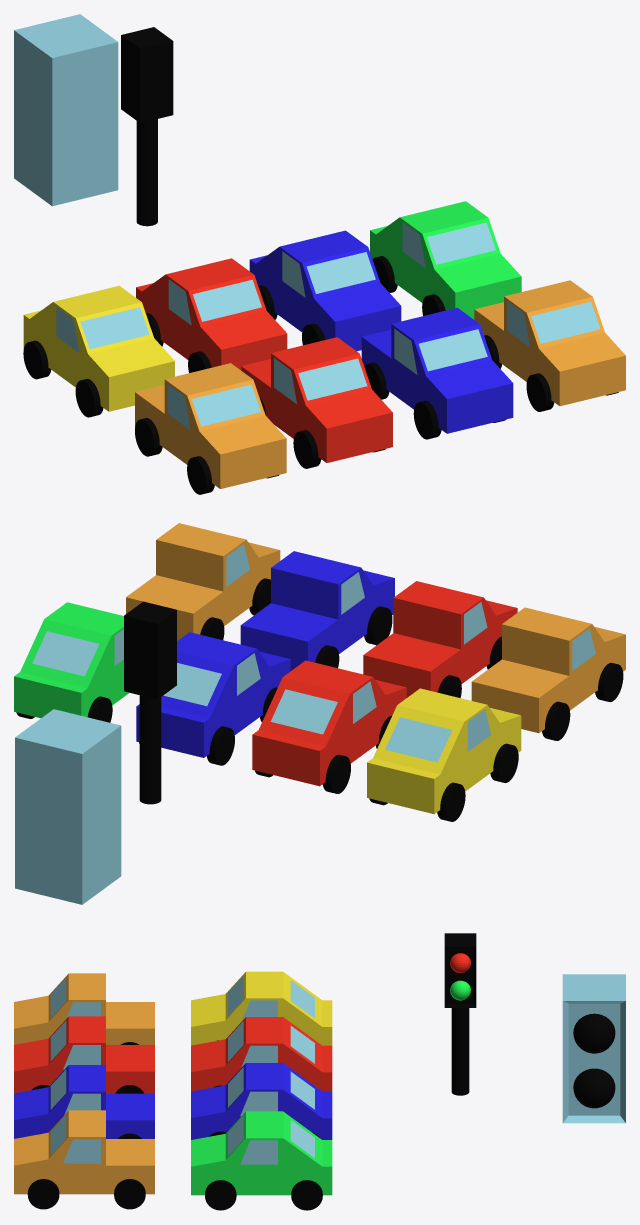
Rendered from cars_ speaker_ traffic light group maodels.glb.
3 renders of one model, top to bottom at view 1: azimuth 30°, elevation 25°; view 2: azimuth 150°, elevation 25°; view 3: azimuth 270°, elevation 25°, orthographic. The views are drawn at different scales.
Parts seen in each view (by area): view 1: Cube.009, Cube.003, Cube.001, Cube.007, Cube.004, Cube.002, Cube.008, Cube.005, Cube.006, Cube; view 2: Cube.009, Cube.007, Cube.006, Cube.003, Cube.001, Cube.002, Cube.005, Cube.004, Cube.008, Cube; view 3: Cube.008, Cube.004, Cube.009, Cube.005, Cube.002, Cube.006, Cube.007, Cube.001, Cube.003, Cube.
Part boxes in pixels (left/top/right/bottom): Cube.009: left=14, top=14, right=118, bottom=206; Cube.003: left=135, top=363, right=286, bottom=494; Cube.001: left=361, top=307, right=513, bottom=439; Cube.007: left=23, top=285, right=174, bottom=417; Cube.004: left=474, top=280, right=625, bottom=411; Cube.002: left=241, top=337, right=392, bottom=468; Cube.008: left=370, top=201, right=521, bottom=319; Cube.005: left=249, top=230, right=401, bottom=351; Cube.006: left=136, top=258, right=287, bottom=372; Cube: left=121, top=27, right=173, bottom=226; Cube.009: left=15, top=709, right=121, bottom=904; Cube.007: left=367, top=688, right=521, bottom=821; Cube.006: left=252, top=660, right=406, bottom=793; Cube.003: left=471, top=607, right=625, bottom=740; Cube.001: left=240, top=551, right=394, bottom=670; Cube.002: left=363, top=581, right=517, bottom=697; Cube.005: left=136, top=632, right=290, bottom=765; Cube.004: left=126, top=523, right=280, bottom=640; Cube.008: left=14, top=602, right=129, bottom=722; Cube: left=124, top=601, right=176, bottom=804; Cube.008: left=191, top=1111, right=332, bottom=1210; Cube.004: left=14, top=1110, right=154, bottom=1209; Cube.009: left=562, top=974, right=625, bottom=1123; Cube.005: left=191, top=1063, right=332, bottom=1139; Cube.002: left=14, top=1016, right=154, bottom=1093; Cube.006: left=191, top=1017, right=332, bottom=1091; Cube.007: left=191, top=971, right=332, bottom=1045; Cube.001: left=14, top=1065, right=154, bottom=1138; Cube.003: left=14, top=973, right=154, bottom=1044; Cube: left=444, top=933, right=476, bottom=1095.
Bounding box in the file's own units: 12.78 × 6.4 × 19.37.
Materials: 1 (1 with a texture image).
